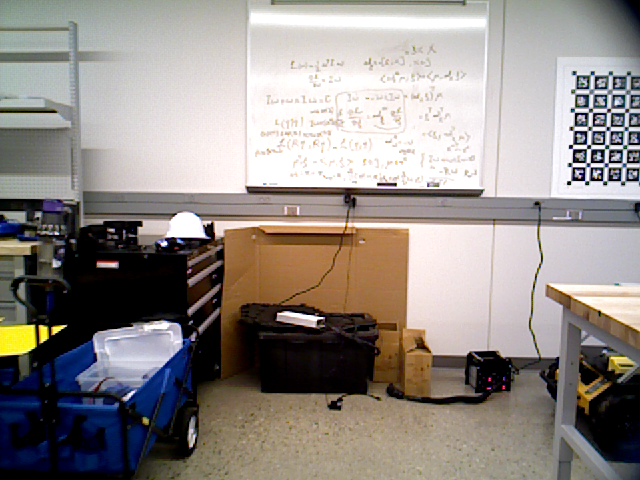painting4: (556, 55, 640, 199)
